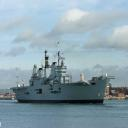Portanaves: (11, 43, 117, 106)
